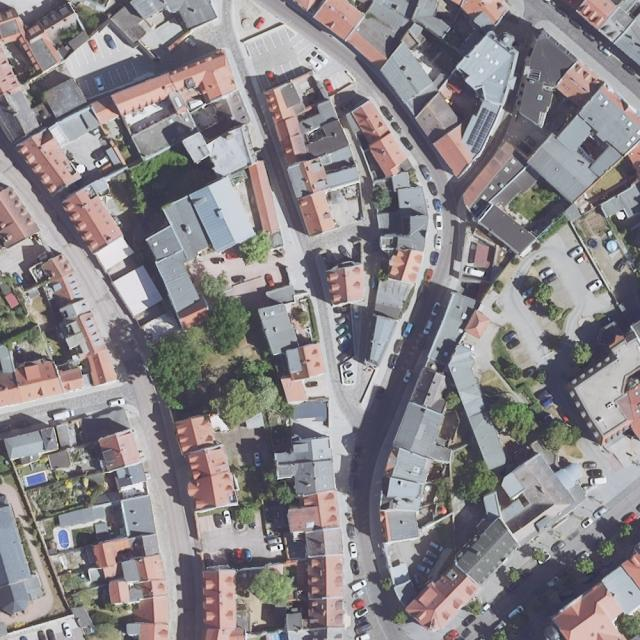PV: (472, 111, 496, 154), (466, 108, 489, 145)
